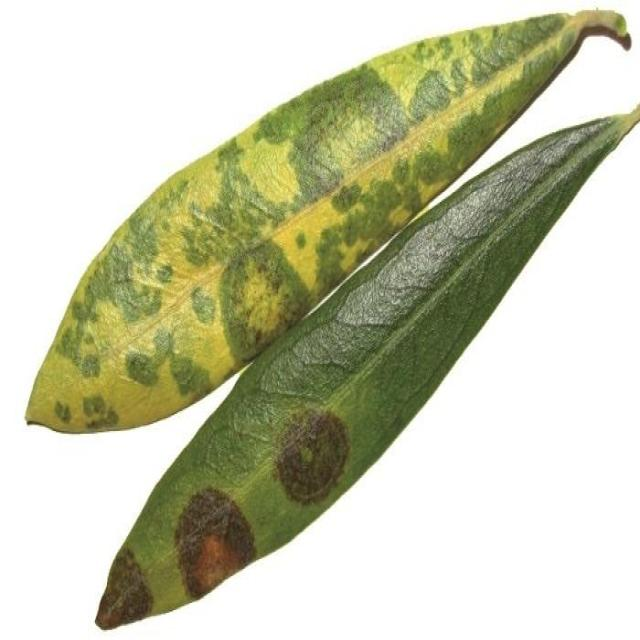Peacock Eye: (97, 107, 639, 630), (26, 23, 567, 431)
